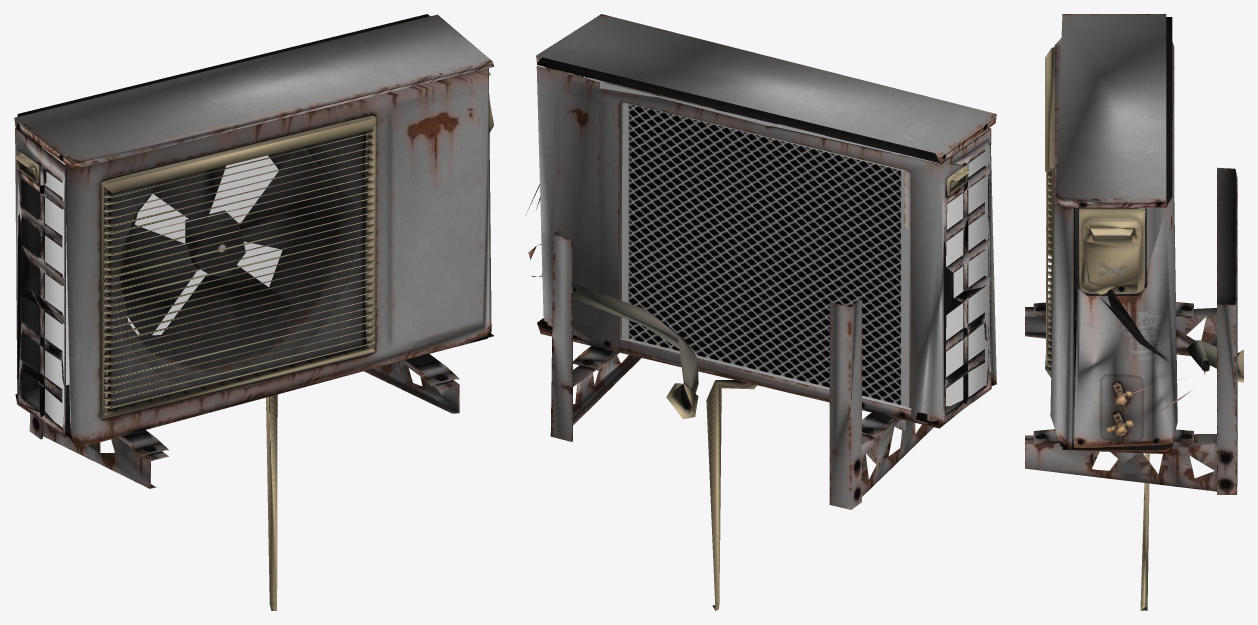
File: ph_aircon.glb
3 views of the same model, side by side, from view 1: azimuth 30°, elevation 25°; view 2: azimuth 150°, elevation 25°; view 3: azimuth 270°, elevation 25° (orthographic). The views are drawn at different scales.
Visible parts, largest first — view 1: exterior_aircon_unit_rusted; view 2: exterior_aircon_unit_rusted; view 3: exterior_aircon_unit_rusted.
Part boxes in pixels (x1,y1,x2,y2): exterior_aircon_unit_rusted: (14,14,493,610); exterior_aircon_unit_rusted: (525,14,996,610); exterior_aircon_unit_rusted: (1025,14,1243,610).
Size of the model in its own units: 0.7976 by 0.9225 by 0.3742.
Materials: 2 (2 with a texture image).
